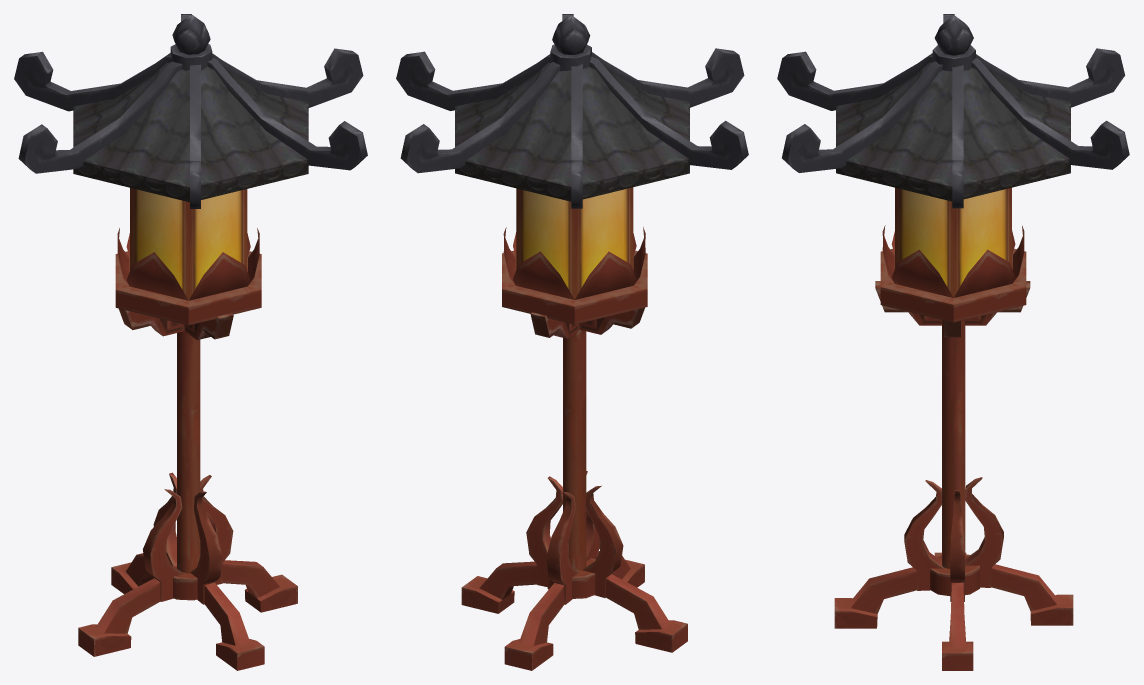
File: ZYbui_CLF_huadeng01.FBX
The picture shows the model from 3 angles, left to right: view 1: azimuth 30°, elevation 25°; view 2: azimuth 150°, elevation 25°; view 3: azimuth 270°, elevation 25°; orthographic projection.
Visible parts, largest first — view 1: ZYbui_CLF_huadeng01; view 2: ZYbui_CLF_huadeng01; view 3: ZYbui_CLF_huadeng01.
Part boxes in pixels (box(x1,y1,x2,y2)): ZYbui_CLF_huadeng01: box(14, 14, 367, 670); ZYbui_CLF_huadeng01: box(396, 14, 748, 670); ZYbui_CLF_huadeng01: box(777, 14, 1129, 670).
Size of the model in its own units: 146 by 248 by 130.
